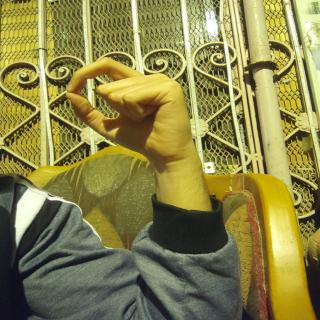FAA: (60, 56, 201, 174)
